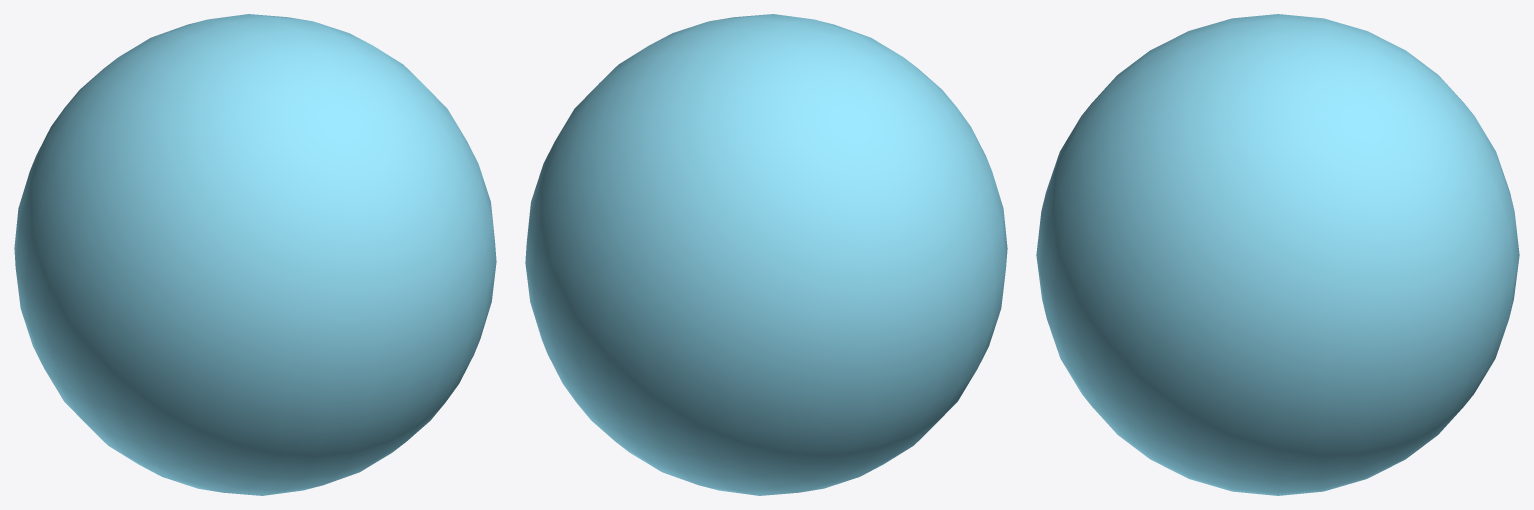
File: snow_ball.glb
3 renders of one model, left to right at view 1: azimuth 30°, elevation 25°; view 2: azimuth 150°, elevation 25°; view 3: azimuth 270°, elevation 25°, orthographic.
Parts seen in each view (by area): view 1: snow_ball; view 2: snow_ball; view 3: snow_ball.
Boxes of the visible parts, x1=… form: snow_ball: x1=14, y1=14, x2=496, y2=495; snow_ball: x1=525, y1=14, x2=1007, y2=495; snow_ball: x1=1036, y1=14, x2=1519, y2=495.
Bounding box in the file's own units: 1.28 × 1.28 × 1.28.
